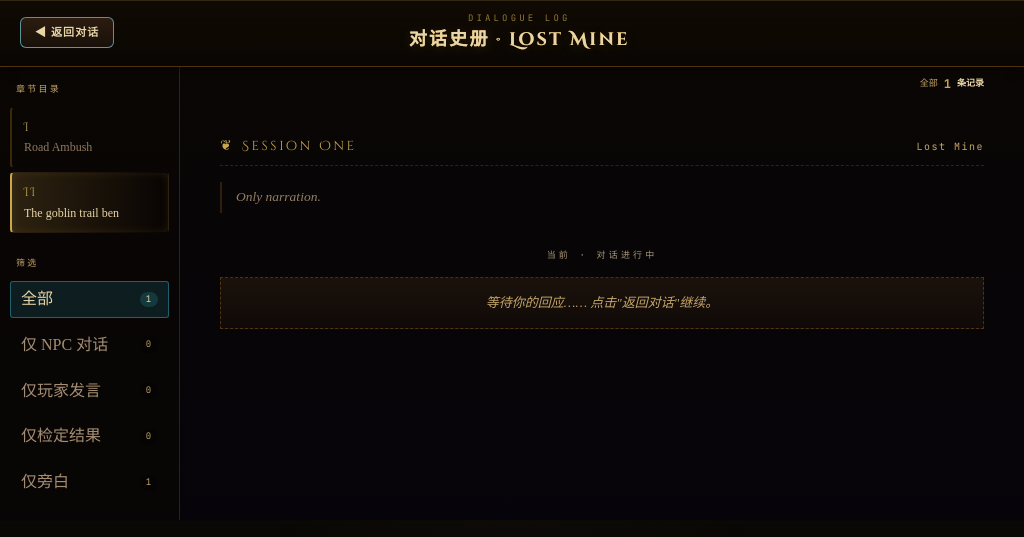
Test: DialogueHistoryView › shows an empty state for filters with no matching entries
The image size is (1024, 537).
What coordinates should you click on to do the following:
click the button "仅玩家发言 0"
I would click on:
 (90, 391)
Its box is [10,373,169,410].
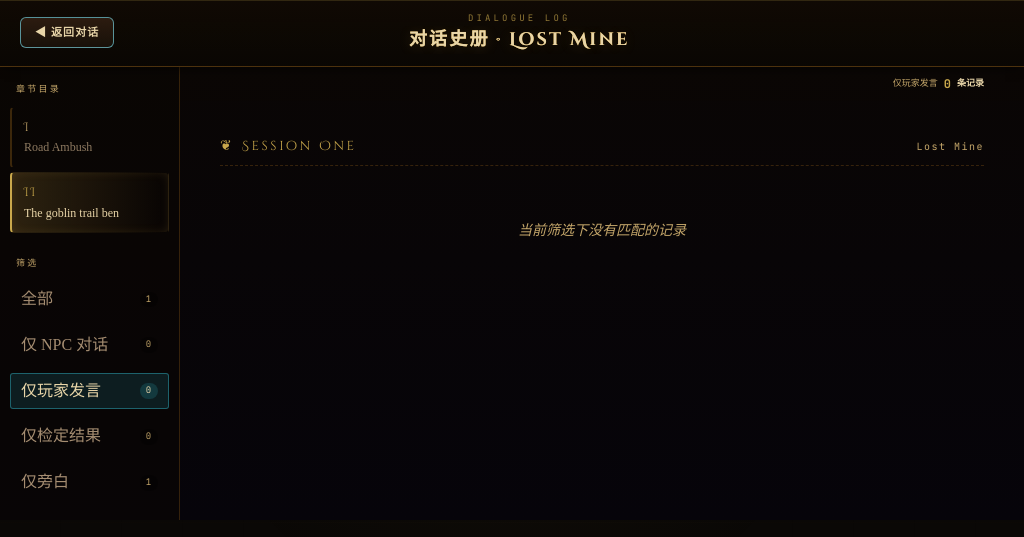
expect the message shows "0": met, box [944,76,951,92]
expect the text "当前筛选下没有匹配的记录" is shown: met, box [518,223,686,238]
